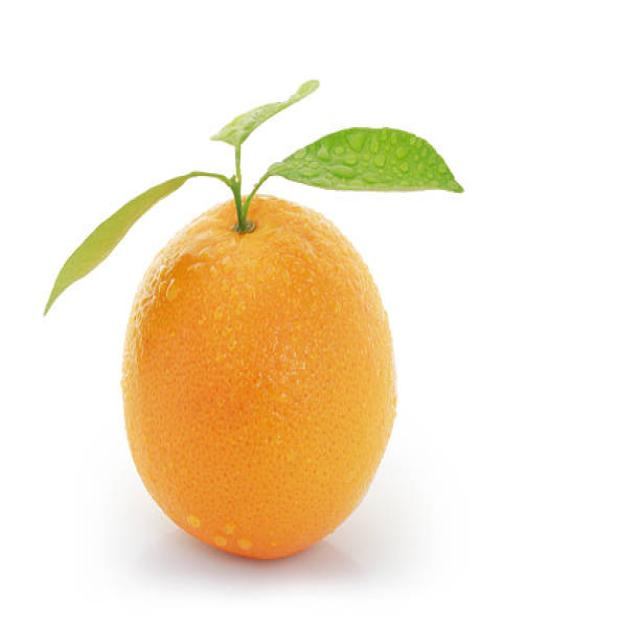Ripe: (114, 190, 401, 564)
